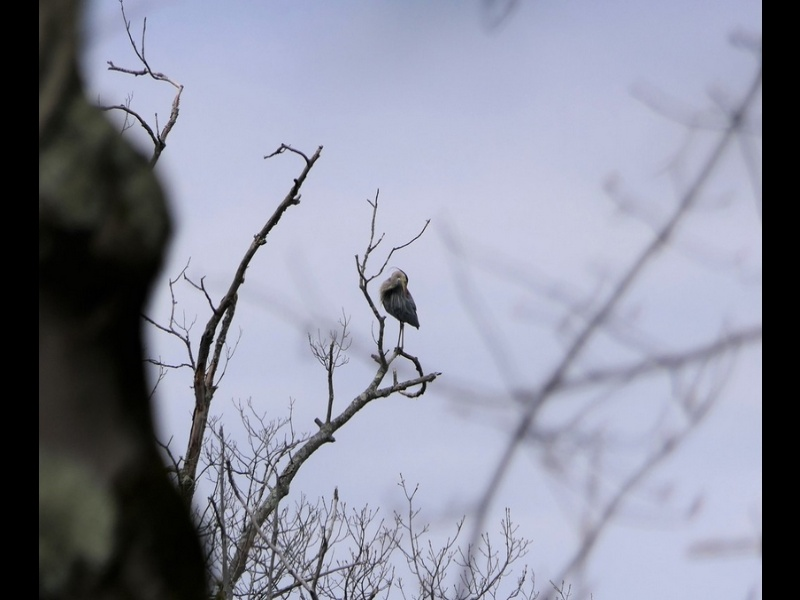heron: (377, 265, 423, 354)
